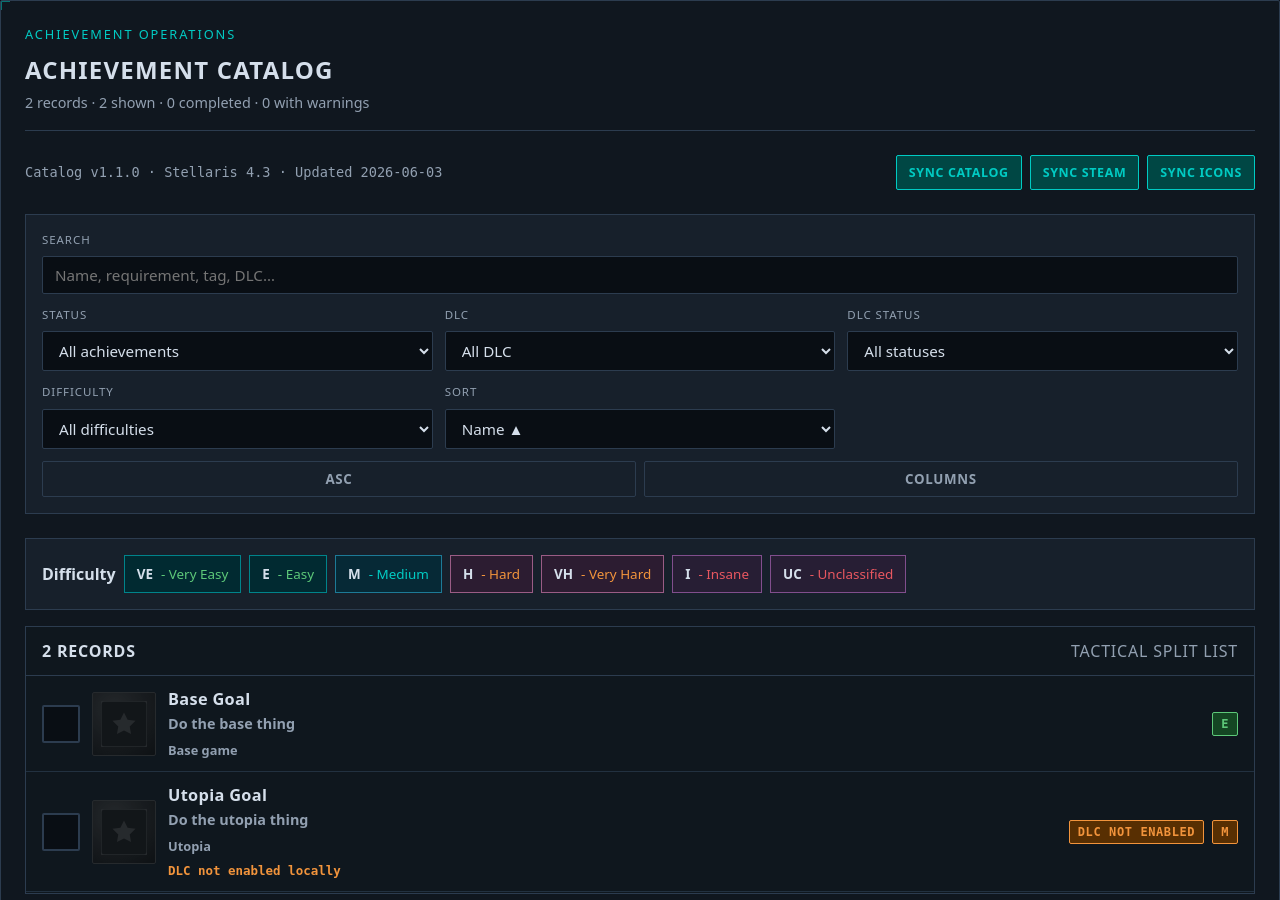
Test: shows DLC warning badges and supports DLC availability filtering on achievements
This screenshot has width=1280, height=900.
Check: the text "Utopia Goal" is shown, box x1=168 y1=784 x2=267 y2=806
Check: the text "DLC not enabled" is shown, box x1=1069 y1=820 x2=1204 y2=844
Select "Needs DLC attention" in the dropdown named "Filter by DLC availability" at (1043, 351), box x1=847 y1=331 x2=1238 y2=371
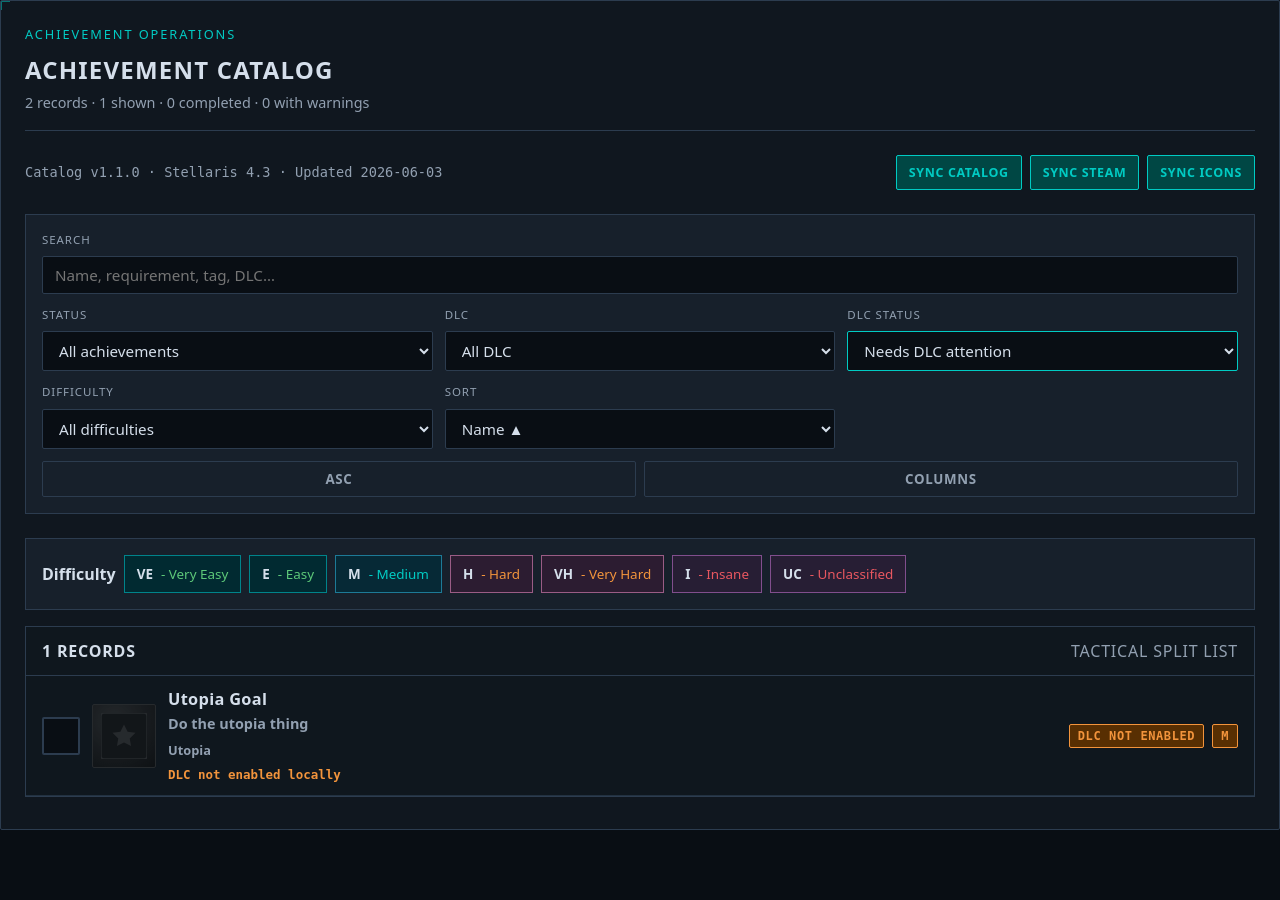
Check: the text "Utopia Goal" is shown, box x1=168 y1=688 x2=267 y2=710
Check: the button "Base Goal" is gone
